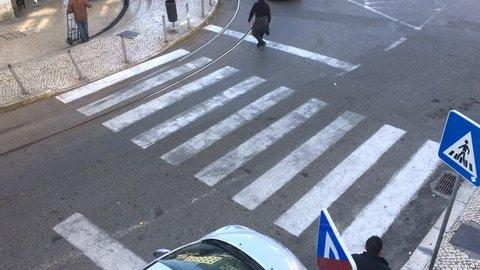crosswalk: (50, 45, 461, 270)
